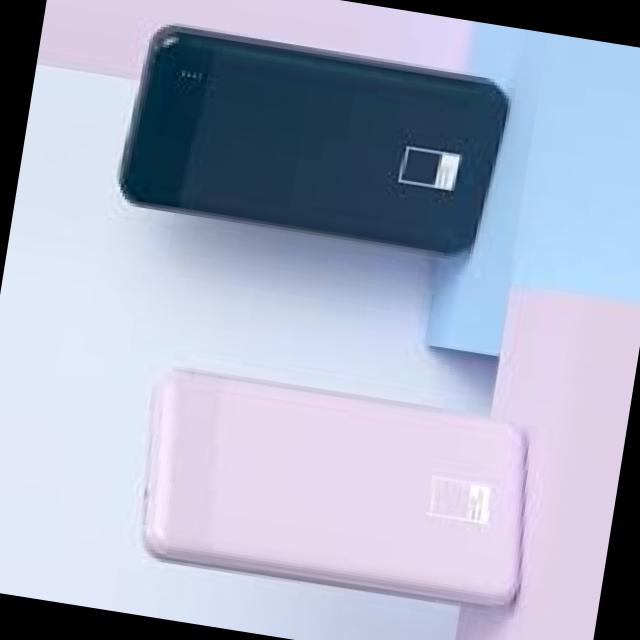portable-charger: (111, 11, 518, 266), (131, 362, 545, 612)
